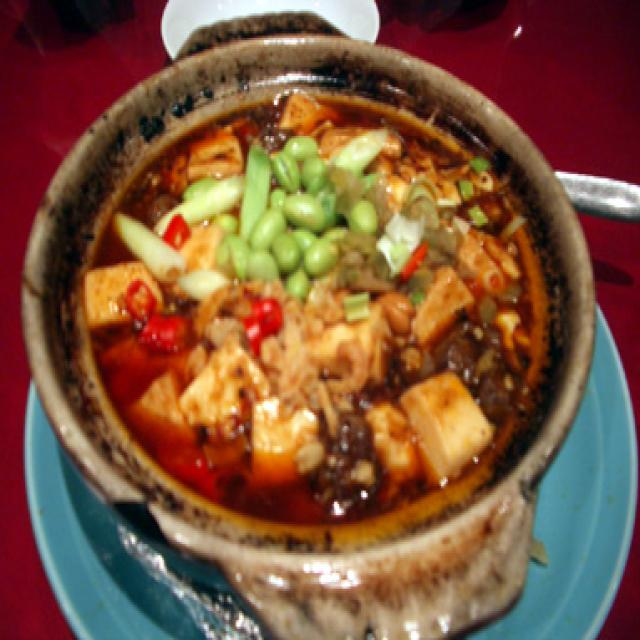豆腐料理: (12, 24, 598, 576)
